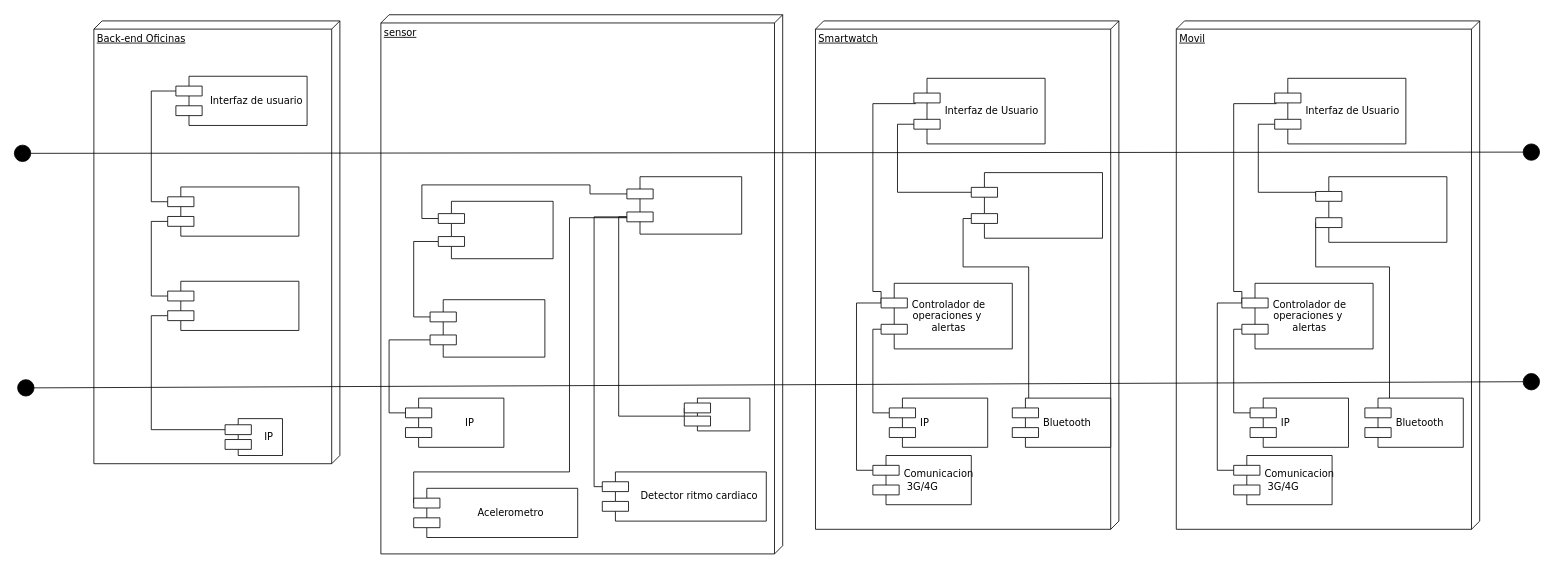
Image size: 1554x568. Some labels were removed from this diagram. The shapes that lost their labels are listed below. From the top down, each one's centre as x and y in pixels, then its label:
the point at 233,211: Gestion de Alerta
the point at 684,205: Module Captura de datos
the point at 1036,205: Detecion movil
the point at 1381,209: Detecion Smartwhatch
the point at 495,229: Module Cifrado de datos
the point at 233,305: Modulo descifrador
the point at 487,328: Publicador
the point at 716,414: GPS
